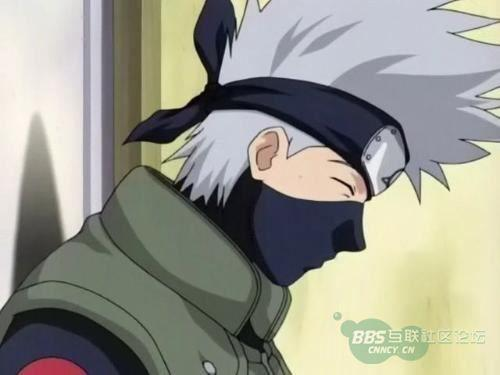kakashi: (179, 75, 412, 290)
